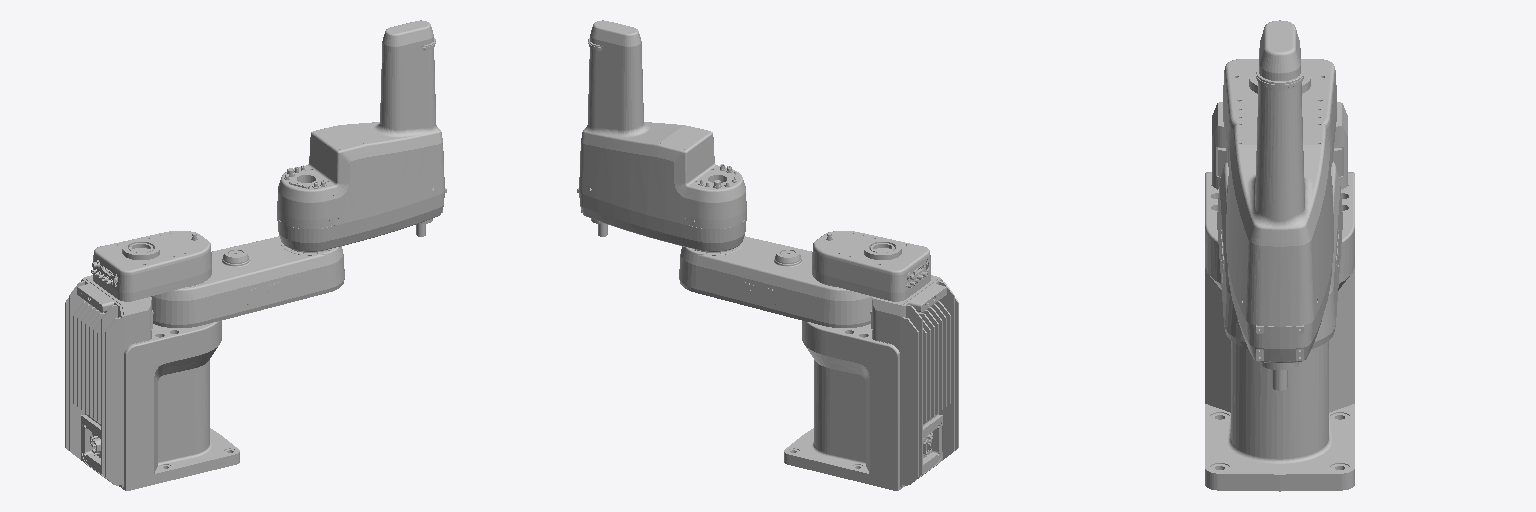
robot.urdf — omron_cobra_s600:
<?xml version="1.0"?>
<!--
  Draft kinematic URDF reconstructed from supplied OMRON/Adept Cobra s600 STL meshes.

  Meshes are in millimetres, so scale = 0.001.

  Kinematic convention:
    joint_1: revolute about +Z
    joint_2: revolute about +Z
    joint_3: prismatic along -Z, q=0 at fully retracted, 0.210 m stroke
    joint_4: revolute about +Z, +/-360 deg

  IMPORTANT:
    - Mass/inertia are intentionally omitted because STL geometry alone does not provide
      trustworthy real mass properties.
    - Joint effort limits are placeholders for visualization/URDF compatibility only.
    - Verify against the physical robot or official CAD before dynamics/control use.
-->
<robot name="omron_cobra_s600">

  <material name="light_gray">
    <color rgba="0.78 0.78 0.78 1.0"/>
  </material>

  <link name="base_link">
    <visual>
      <origin xyz="0 0 0" rpy="0 0 0"/>
      <geometry>
        <mesh filename="package://omron_cobra_s600_description/meshes/fixed-base.STL"
              scale="0.001 0.001 0.001"/>
      </geometry>
      <material name="light_gray"/>
    </visual>
    <collision>
      <origin xyz="0 0 0" rpy="0 0 0"/>
      <geometry>
        <mesh filename="package://omron_cobra_s600_description/meshes/fixed-base.STL"
              scale="0.001 0.001 0.001"/>
      </geometry>
    </collision>
  </link>

  <joint name="joint_1" type="revolute">
    <parent link="base_link"/>
    <child link="inner_link"/>
    <origin xyz="0 0 0.38739" rpy="0 0 0"/>
    <axis xyz="0 0 1"/>
    <limit lower="-1.832596" upper="1.832596" effort="1.0" velocity="6.736676"/>
  </joint>

  <link name="inner_link">
    <visual>
      <origin xyz="0 0 0" rpy="0 0 0"/>
      <geometry>
        <mesh filename="package://omron_cobra_s600_description/meshes/link1.STL"
              scale="0.001 0.001 0.001"/>
      </geometry>
      <material name="light_gray"/>
    </visual>
    <collision>
      <origin xyz="0 0 0" rpy="0 0 0"/>
      <geometry>
        <mesh filename="package://omron_cobra_s600_description/meshes/link1.STL"
              scale="0.001 0.001 0.001"/>
      </geometry>
    </collision>
  </link>

  <joint name="joint_2" type="revolute">
    <parent link="inner_link"/>
    <child link="outer_link"/>
    <origin xyz="0.325 0 0.05170" rpy="0 0 0"/>
    <axis xyz="0 0 1"/>
    <limit lower="-2.617994" upper="2.617994" effort="1.0" velocity="12.566371"/>
  </joint>

  <link name="outer_link">
    <visual>
      <origin xyz="0 0 0" rpy="0 0 0"/>
      <geometry>
        <mesh filename="package://omron_cobra_s600_description/meshes/link2.STL"
              scale="0.001 0.001 0.001"/>
      </geometry>
      <material name="light_gray"/>
    </visual>
    <collision>
      <origin xyz="0 0 0" rpy="0 0 0"/>
      <geometry>
        <mesh filename="package://omron_cobra_s600_description/meshes/link2.STL"
              scale="0.001 0.001 0.001"/>
      </geometry>
    </collision>
  </link>

  <joint name="joint_3" type="prismatic">
    <parent link="outer_link"/>
    <child link="quill_slide"/>
    <origin xyz="0.275 0 0.411042" rpy="0 0 0"/>
    <axis xyz="0 0 -1"/>
    <limit lower="0.0" upper="0.210" effort="1.0" velocity="1.10"/>
  </joint>

  <link name="quill_slide"/>

  <joint name="joint_4" type="revolute">
    <parent link="quill_slide"/>
    <child link="quill_link"/>
    <origin xyz="0 0 0" rpy="0 0 0"/>
    <axis xyz="0 0 1"/>
    <limit lower="-6.283185" upper="6.283185" effort="1.0" velocity="20.943951"/>
  </joint>

  <link name="quill_link">
    <visual>
      <origin xyz="0 0 0" rpy="0 0 0"/>
      <geometry>
        <mesh filename="package://omron_cobra_s600_description/meshes/link3.STL"
              scale="0.001 0.001 0.001"/>
      </geometry>
      <material name="light_gray"/>
    </visual>
    <collision>
      <origin xyz="0 0 0" rpy="0 0 0"/>
      <geometry>
        <mesh filename="package://omron_cobra_s600_description/meshes/link3.STL"
              scale="0.001 0.001 0.001"/>
      </geometry>
    </collision>
  </link>

</robot>

--- Facts derived from the render (not from the file) ---
Views: 3 orthographic renders of the robot side by side, from view 1: azimuth 30°, elevation 25°; view 2: azimuth 150°, elevation 25°; view 3: azimuth 270°, elevation 25°.
Model omron_cobra_s600 with 5 links and 4 joints (3 revolute, 1 prismatic), rooted at base_link, posed all joints at 0.
Visible links, largest first — view 1: base_link, outer_link, inner_link; view 2: base_link, outer_link, inner_link; view 3: base_link, outer_link, inner_link, quill_link.
Link boxes in pixels (x1,y1,x2,y2): base_link: (65,231,239,490); outer_link: (277,20,446,251); inner_link: (151,236,344,327); base_link: (784,231,958,490); outer_link: (577,20,746,251); inner_link: (679,236,872,327); base_link: (1205,59,1354,491); outer_link: (1226,20,1333,370); inner_link: (1217,161,1342,348); quill_link: (1256,69,1303,390).
Size in the robot's own frame: 0.8799 by 0.2 by 0.8855 metres.
Meshes: 4 distinct files referenced, 4 mesh visuals loaded (4 binary STL).
